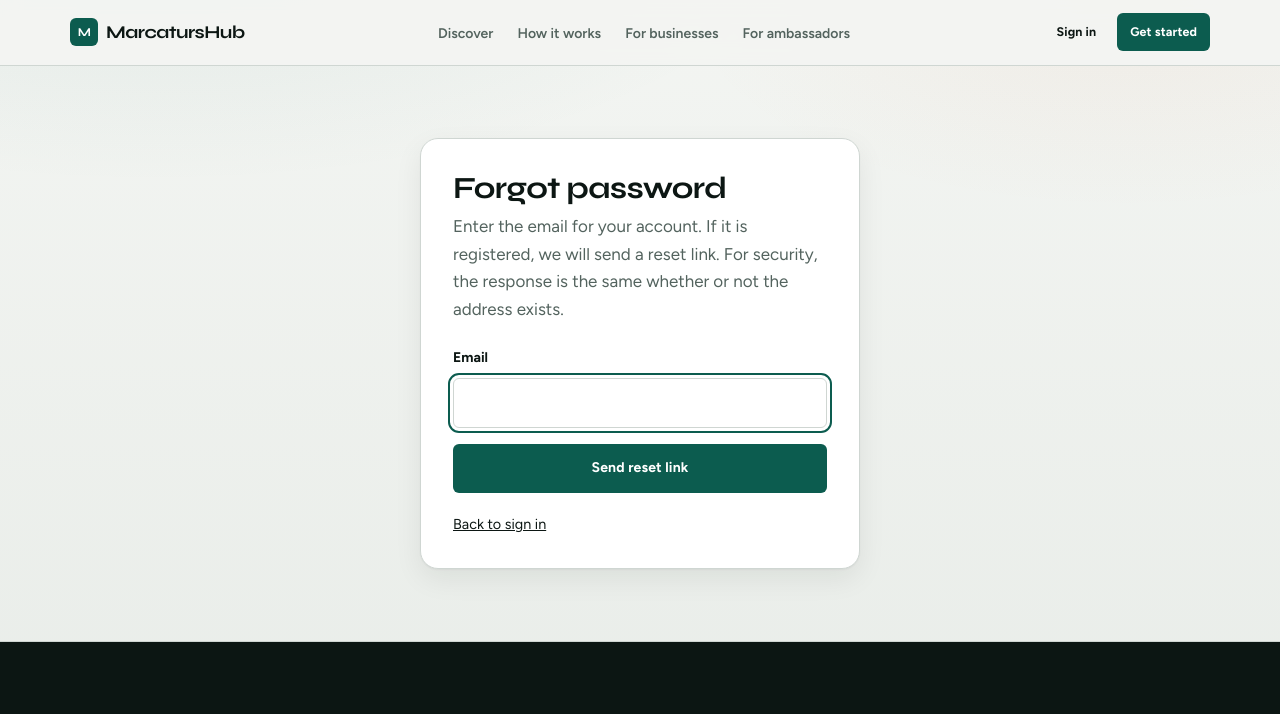
Test: MH-FE-022 password reset › renders forgot-password and shows anti-enumeration success
Check: the heading "Forgot password" is shown, box [453, 170, 727, 206]
Type "ada@example.com" into the field labelled "Email" at (640, 403), box [453, 378, 827, 428]
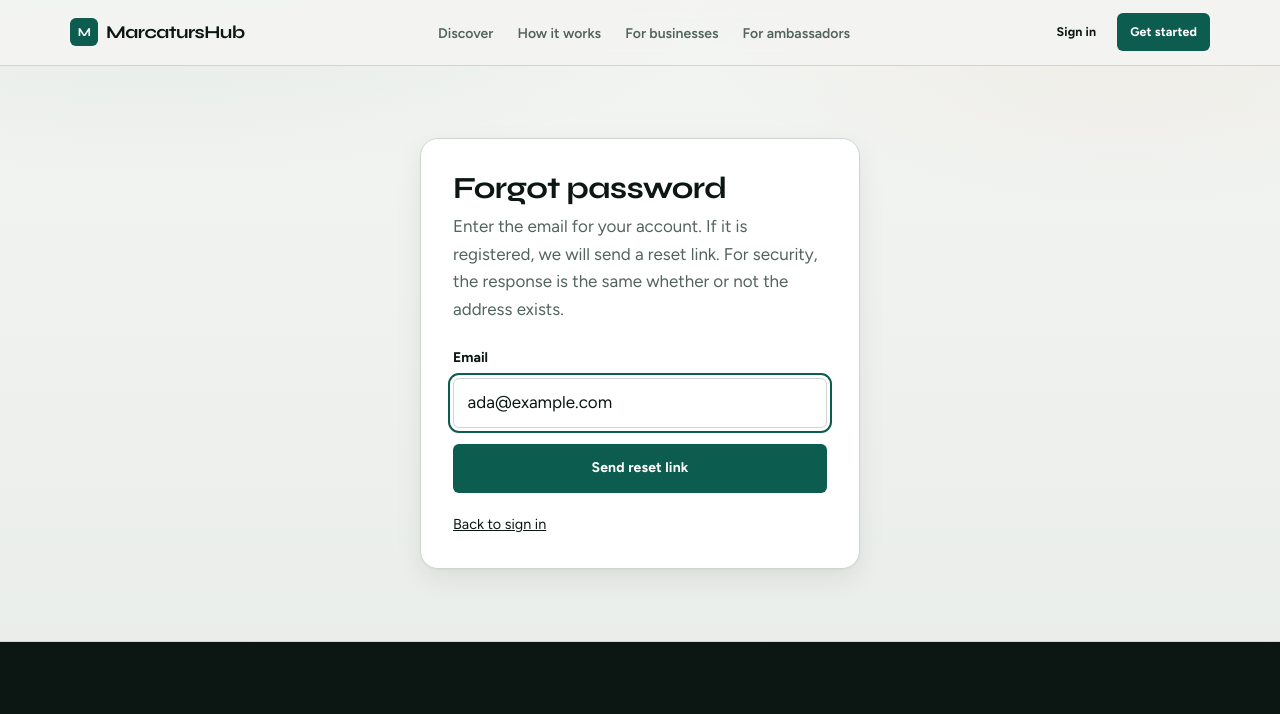
Click the button "Send reset link" at (640, 468), box [453, 444, 827, 493]
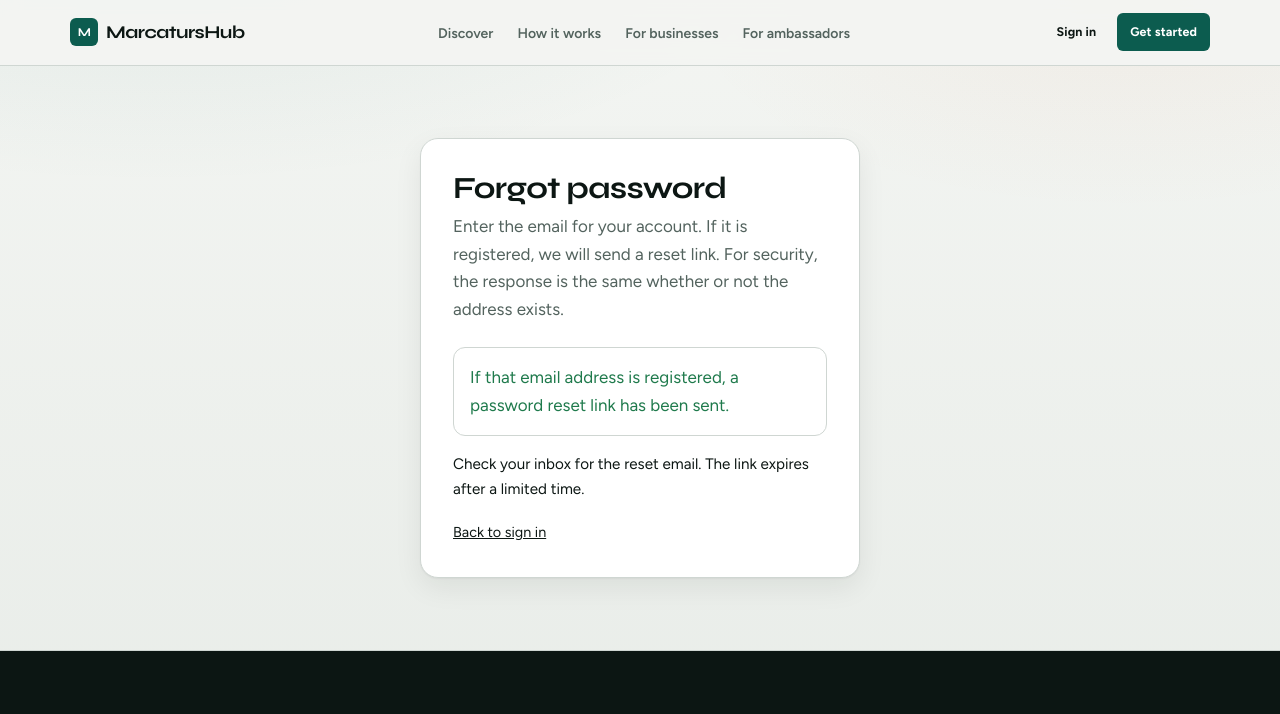
Check: the text "If that email address is registered, a password reset link has been sent." is shown, box [453, 347, 827, 436]
